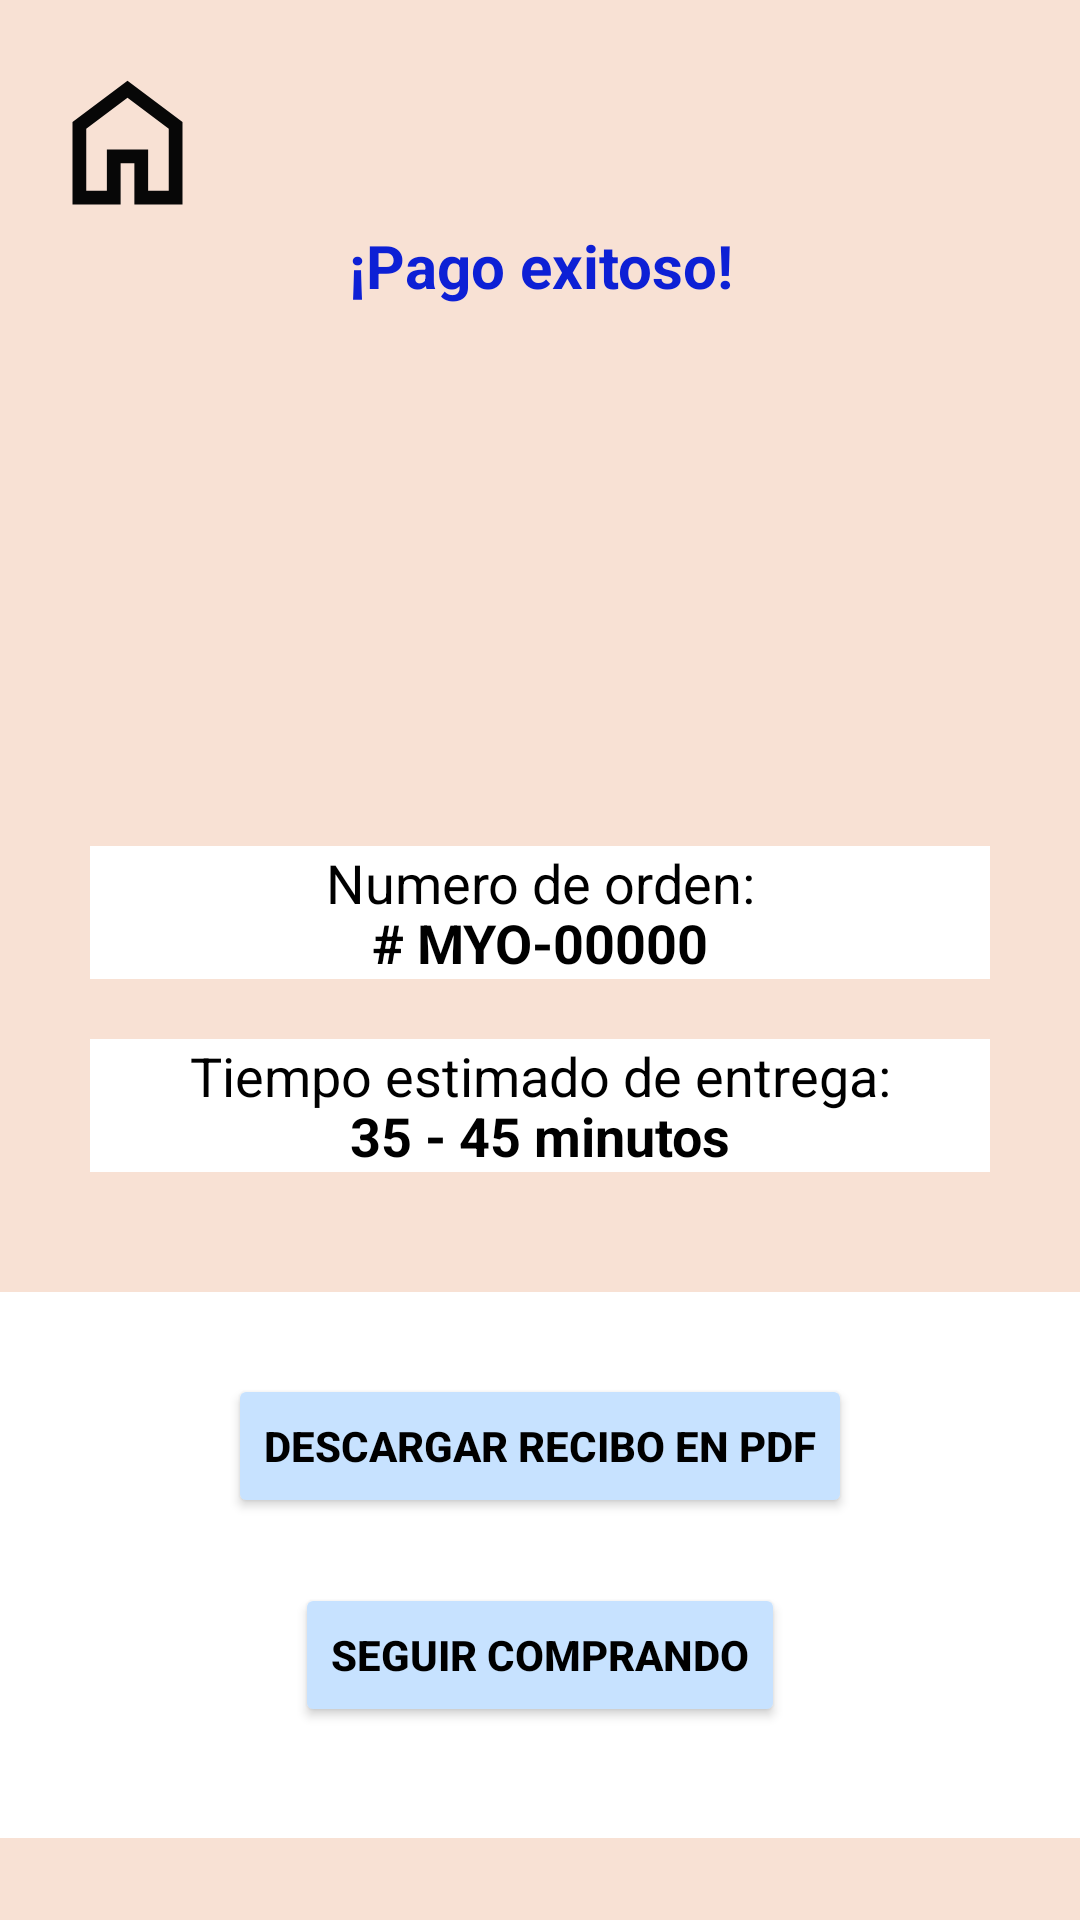

Icon bounding boxes for this 1080w x 1920h phone screenshot, format (x1, y1, x2, y2):
home: (72, 81, 183, 205)
